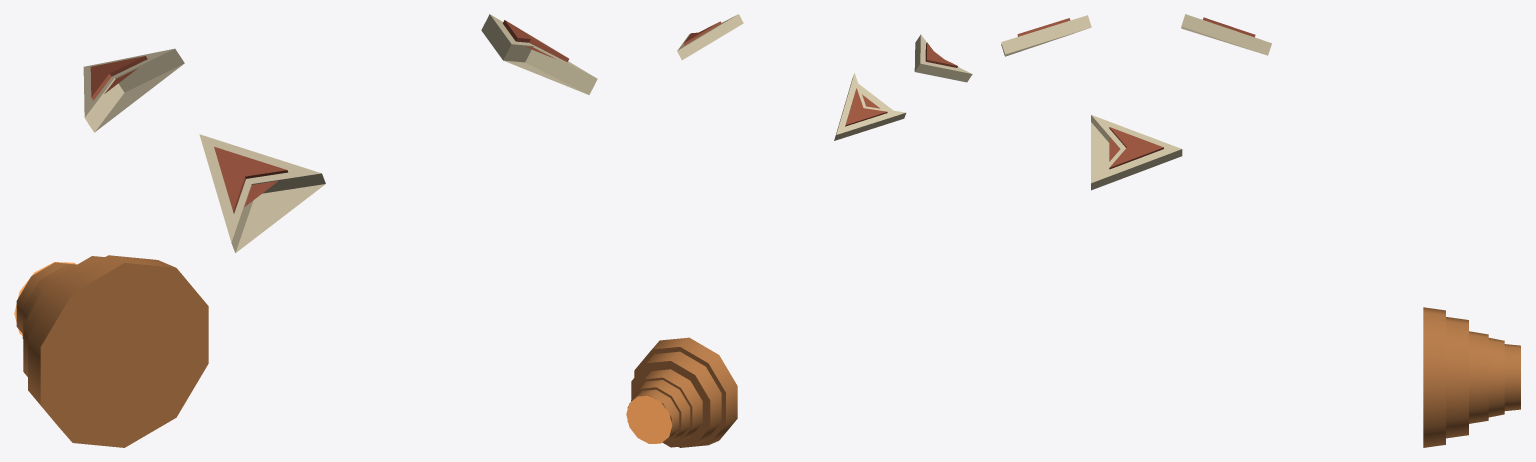
Rendered from shell_rivet_c5.glb.
3 views of the same model, side by side, from view 1: azimuth 30°, elevation 25°; view 2: azimuth 150°, elevation 25°; view 3: azimuth 270°, elevation 25° (orthographic). The views are drawn at different scales.
Parts seen in each view (by area): view 1: Pod; view 2: Pod; view 3: Pod.
Boxes of the visible parts, box(x1,y1,x2,y2) form: Pod: box(14, 14, 597, 447); Pod: box(626, 14, 972, 447); Pod: box(1001, 14, 1520, 447).
Bounding box in the file's own units: 1.11 × 1.31 × 1.6.
